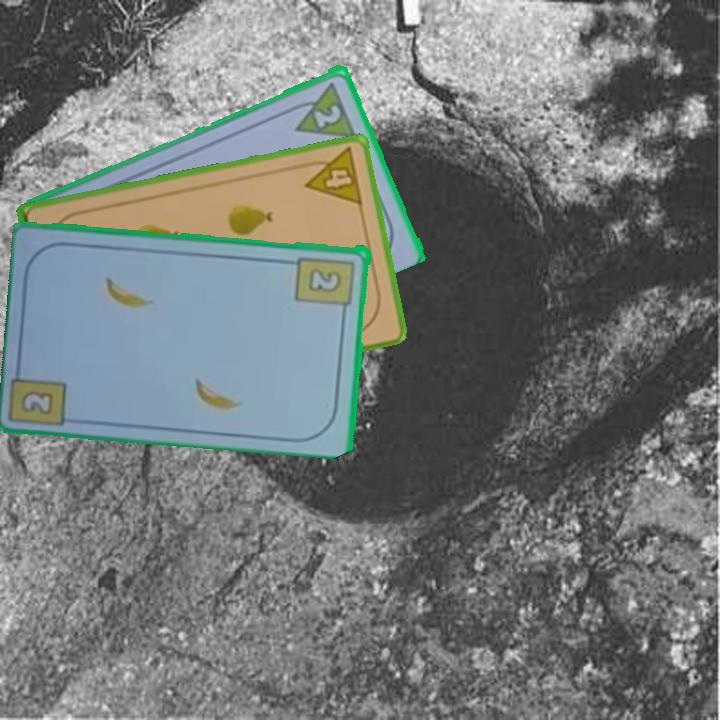2b: (293, 253, 358, 318), (17, 387, 57, 417)
2p: (284, 77, 359, 140)
4p: (298, 144, 366, 208)
